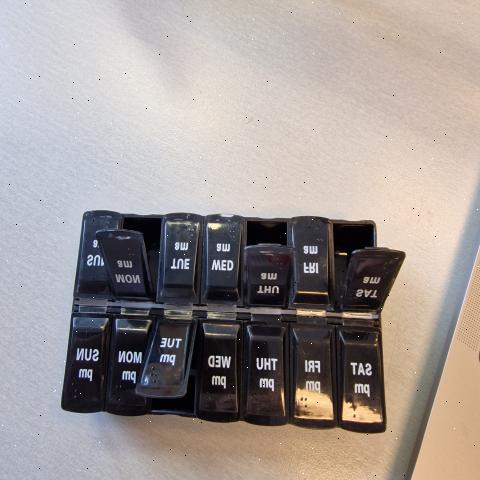Open: (136, 321, 199, 415), (120, 213, 162, 296), (333, 222, 375, 301), (246, 217, 288, 248)
